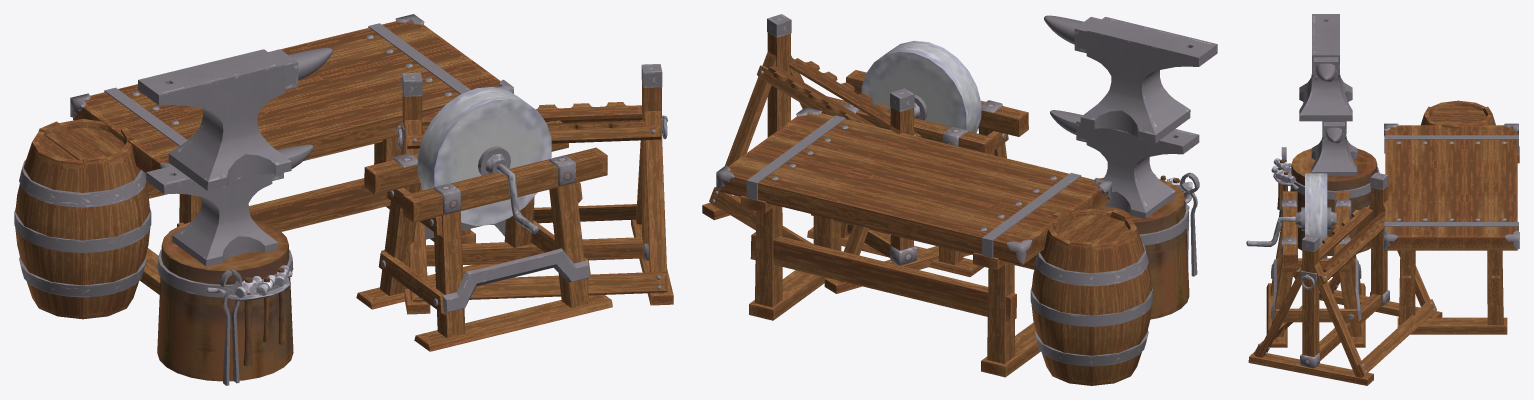
File: Smith.glb
The picture shows the model from 3 angles, left to right: view 1: azimuth 30°, elevation 25°; view 2: azimuth 150°, elevation 25°; view 3: azimuth 270°, elevation 25°; orthographic projection. The views are drawn at different scales.
Parts seen in each view (by area): view 1: Anvil; view 2: Anvil; view 3: Anvil.
Part boxes in pixels (x1,y1,x2,y2): Anvil: [14, 14, 673, 385]; Anvil: [702, 14, 1217, 385]; Anvil: [1246, 14, 1519, 385].
Size of the model in its own units: 3.31 by 1.63 by 2.06.
13 materials, 13 textured.
